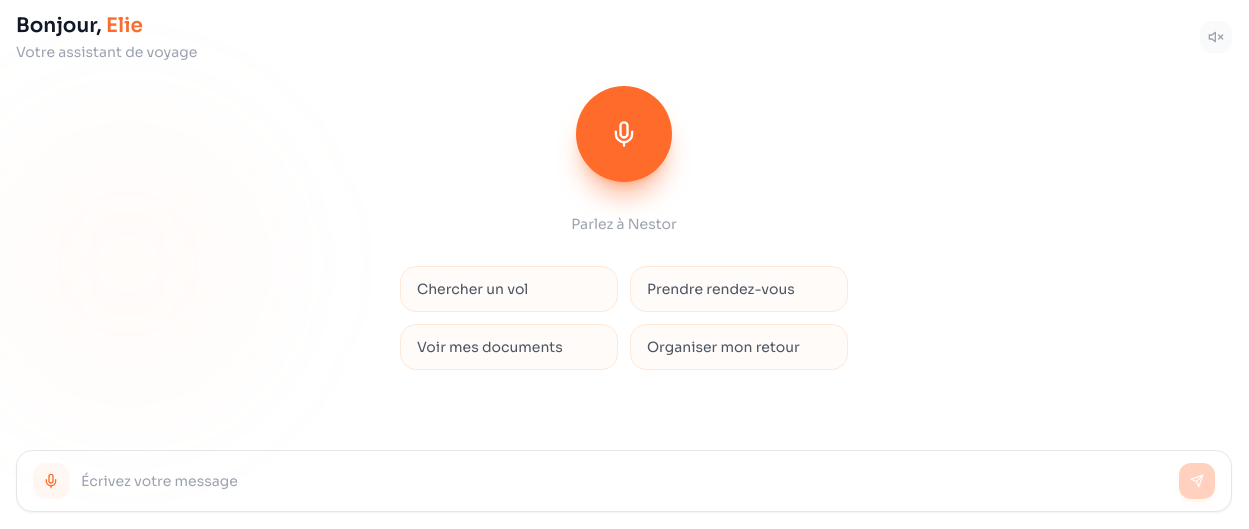
IAPage › affiche une erreur lorsque l’assistant ne répond pas
This screenshot has width=1249, height=529.
In the field with placeholder "Écrivez votre message": (624, 481) left=81, top=471, right=1167, bottom=491, type "Bonjour"
Then press Enter
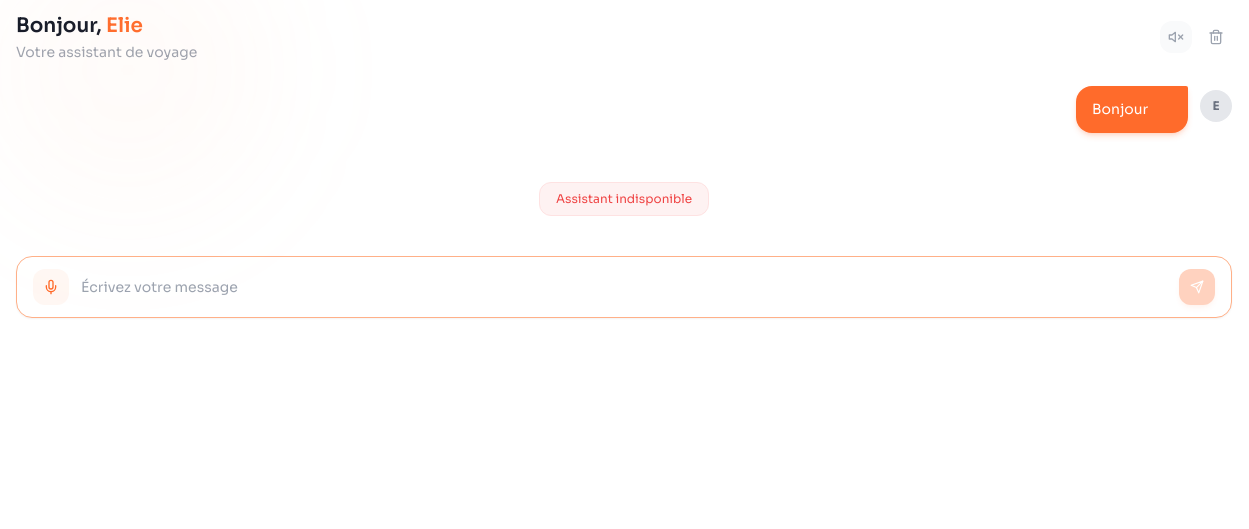
Expected: the text "Assistant indisponible" is shown, left=539, top=182, right=709, bottom=216
